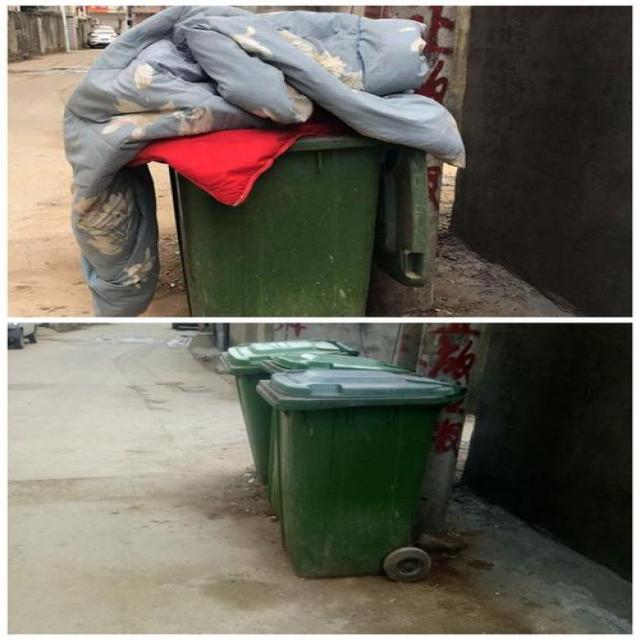garbage_bin: (257, 369, 466, 575)
overflow: (59, 3, 462, 313)
